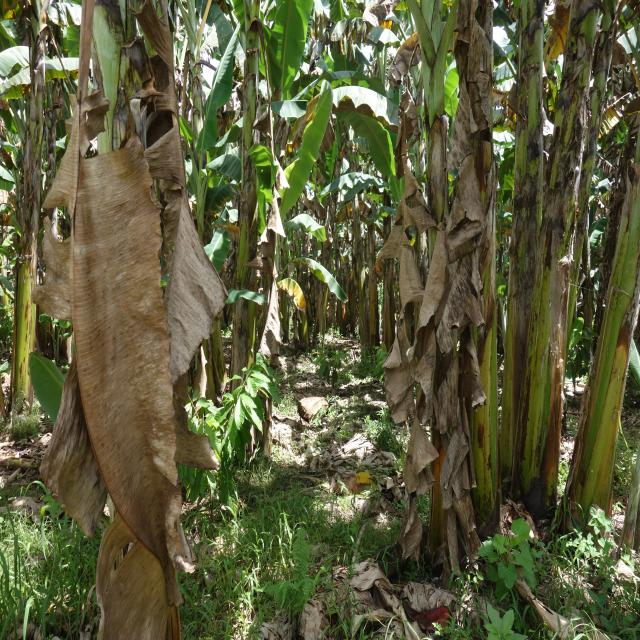Banana-plant: (524, 3, 610, 537), (557, 49, 640, 551), (2, 13, 56, 445), (510, 3, 546, 526), (232, 12, 260, 470)
